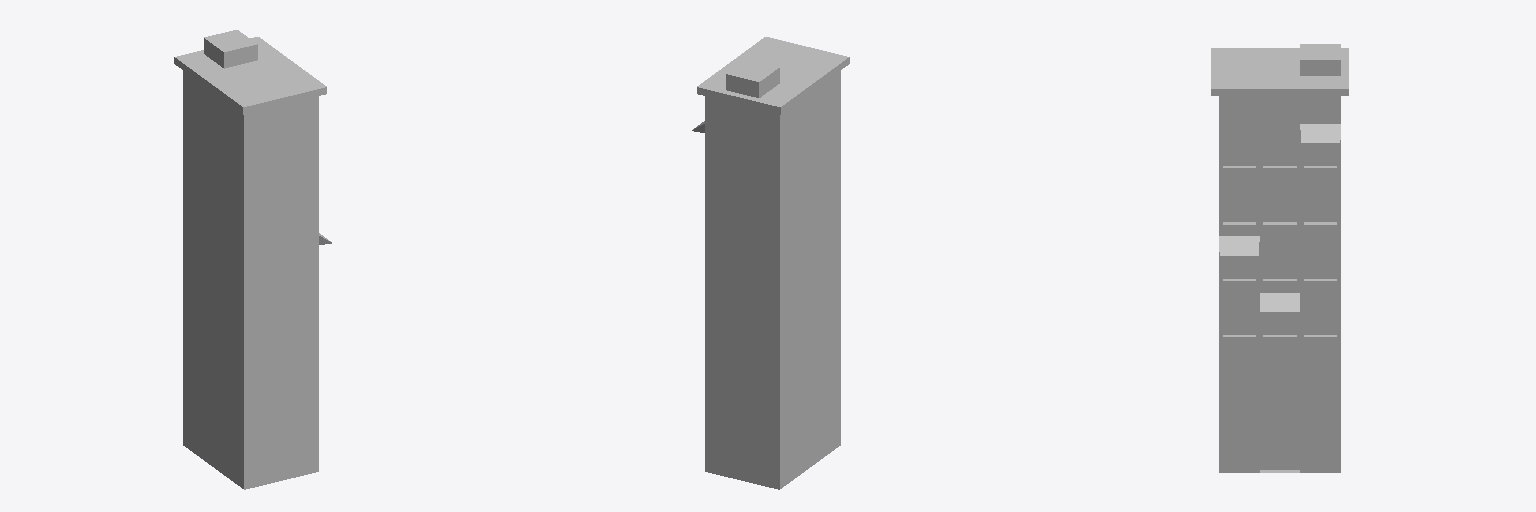
Rendered from tall_house_1.obj.
3 renders of one model, left to right at view 1: azimuth 30°, elevation 25°; view 2: azimuth 150°, elevation 25°; view 3: azimuth 270°, elevation 25°, orthographic.
Parts seen in each view (by area): view 1: Building1; view 2: Building1; view 3: Building1.
Boxes of the visible parts, <box> form: Building1: <box>174,30,331,489</box>; Building1: <box>692,37,849,489</box>; Building1: <box>1211,44,1348,472</box>.
Bounding box in the file's own units: 2.53 × 10.36 × 3.21.